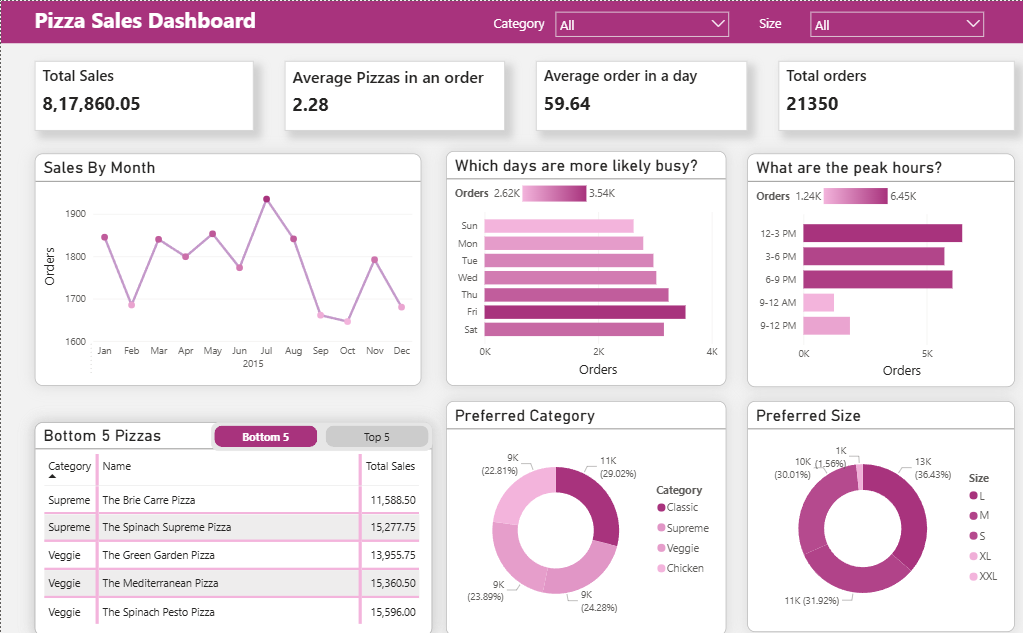

The page's visual inventory and layout, read from the dashboard file:
{"tool":"powerbi","page":{"name":"Page 1","canvas":[1280,800],"ordinal":0},"visuals":[{"type":"textbox","box":[0,0,1279.7,53.1],"z":0},{"type":"barChart","title":"What are the peak hours?","fields":{"Category":["Orders.Time Slot"],"Y":["All Measures.Orders"]},"box":[932.8,190.6,334.4,292.2],"z":1000},{"type":"barChart","title":"Which days are more likely busy?","fields":{"Y":["All Measures.Orders"],"Category":["Date Table.Day"]},"box":[556.2,187.5,350,293.8],"z":2000},{"type":"lineChart","title":"Sales By Month","fields":{"Y":["All Measures.Orders"],"Category":["Date Table.Year","Date Table.Month"]},"box":[42.2,190.6,482.8,290.6],"z":3000},{"type":"donutChart","title":"Preferred Category","fields":{"Y":["All Measures.Orders"],"Category":["Pizza Type.Category"]},"box":[556.2,500,350,293.8],"z":4000},{"type":"donutChart","title":"Preferred Size","fields":{"Y":["All Measures.Orders"],"Category":["Pizzas.Size"]},"box":[932.8,500,334.4,289.1],"z":5000},{"type":"tableEx","title":"Top 5 Pizzas","fields":{"Values":["Pizza Type.Category","Pizza Type.Name","Orders.Total Sales"]},"box":[42.2,526.6,496.9,267.2],"z":6000},{"type":"tableEx","title":"Bottom 5 Pizzas","fields":{"Values":["Pizza Type.Category","Pizza Type.Name","Orders.Total Sales"]},"box":[42.2,526.6,496.9,267.2],"z":7000},{"type":"bookmarkNavigator","box":[262.5,526.6,276.6,35.9],"z":8000},{"type":"multiRowCard","title":"Total Sales","fields":{"Values":["Orders.Total Sales"]},"box":[42.2,75,273.4,87.5],"z":9000},{"type":"multiRowCard","title":"Average Pizzas in an order","fields":{"Values":["All Measures.Avg Pizzas in an order"]},"box":[354.7,75,275,87.5],"z":10000},{"type":"multiRowCard","title":"Average order in a day","fields":{"Values":["All Measures.Avg Orders in a day"]},"box":[668.8,75,264.1,87.5],"z":11000},{"type":"multiRowCard","title":"Total orders","fields":{"Values":["All Measures.Orders"]},"box":[971.9,75,295.3,87.5],"z":12000},{"type":"slicer","fields":{"Values":["Pizzas.Size"]},"box":[1001.6,3.1,237.5,68.8],"z":13000},{"type":"shape","box":[878.1,3.1,167.2,46.9],"z":14000},{"type":"shape","box":[564.1,3.1,167.2,46.9],"z":14001},{"type":"slicer","fields":{"Values":["Pizza Type.Category"]},"box":[682.8,3.1,237.5,68.8],"z":14002}]}

Visuals, with their boxes in screenshot pixels (x1, y1, x2, y2), scaled from the page's 1280x800 canvas onto the 1023x633 screenshot:
textbox: BBox(0, 0, 1022, 42)
"What are the peak hours?" barChart: BBox(746, 151, 1013, 382)
"Which days are more likely busy?" barChart: BBox(445, 148, 724, 381)
"Sales By Month" lineChart: BBox(34, 151, 420, 381)
"Preferred Category" donutChart: BBox(445, 396, 724, 628)
"Preferred Size" donutChart: BBox(746, 396, 1013, 624)
"Top 5 Pizzas" tableEx: BBox(34, 417, 431, 628)
"Bottom 5 Pizzas" tableEx: BBox(34, 417, 431, 628)
bookmarkNavigator: BBox(210, 417, 431, 445)
"Total Sales" multiRowCard: BBox(34, 59, 252, 129)
"Average Pizzas in an order" multiRowCard: BBox(283, 59, 503, 129)
"Average order in a day" multiRowCard: BBox(535, 59, 746, 129)
"Total orders" multiRowCard: BBox(777, 59, 1013, 129)
slicer - Pizzas.Size: BBox(800, 2, 990, 57)
shape: BBox(702, 2, 835, 40)
shape: BBox(451, 2, 584, 40)
slicer - Pizza Type.Category: BBox(546, 2, 736, 57)
